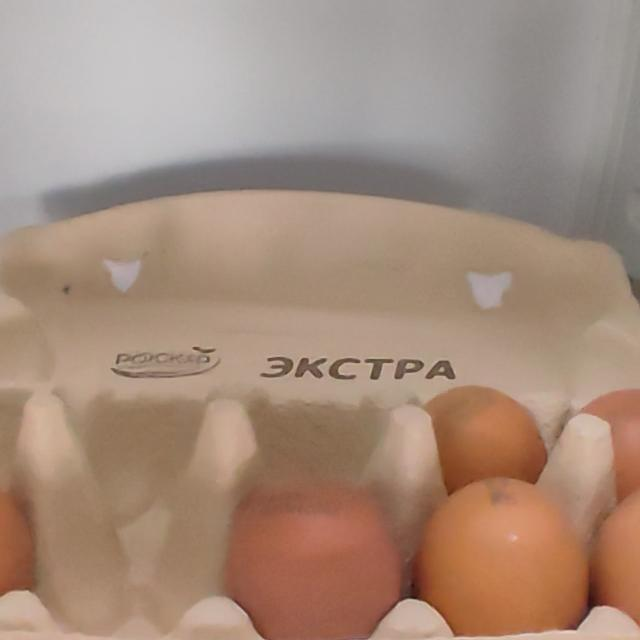egg: (0, 186, 640, 640)
